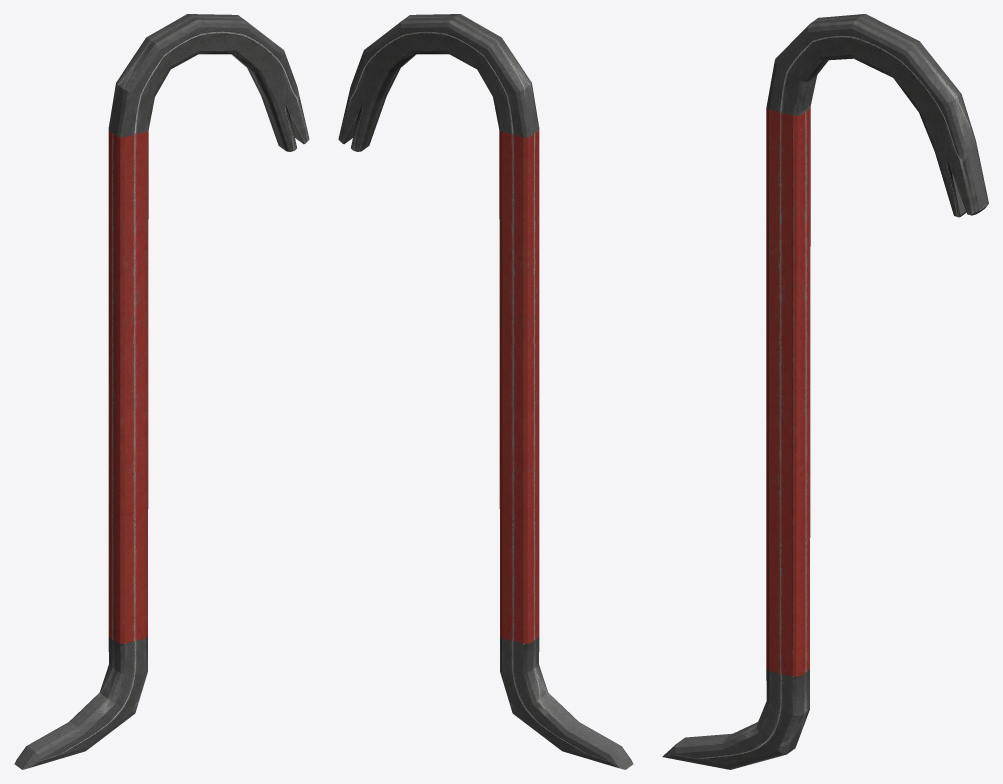
The picture shows the model from 3 angles, left to right: view 1: azimuth 30°, elevation 25°; view 2: azimuth 150°, elevation 25°; view 3: azimuth 330°, elevation 25°; orthographic projection. The views are drawn at different scales.
Visible parts, largest first — view 1: Crowbar; view 2: Crowbar; view 3: Crowbar.
Boxes of the visible parts, left/top/right/bottom form: Crowbar: left=14, top=14, right=309, bottom=769; Crowbar: left=338, top=14, right=633, bottom=769; Crowbar: left=662, top=14, right=988, bottom=769.
Size of the model in its own units: 0.3374 by 0.7956 by 0.0274.
1 material, 1 textured.
